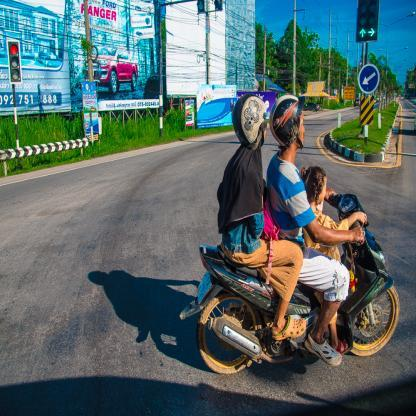helmet: (268, 94, 308, 153), (231, 92, 269, 152)
